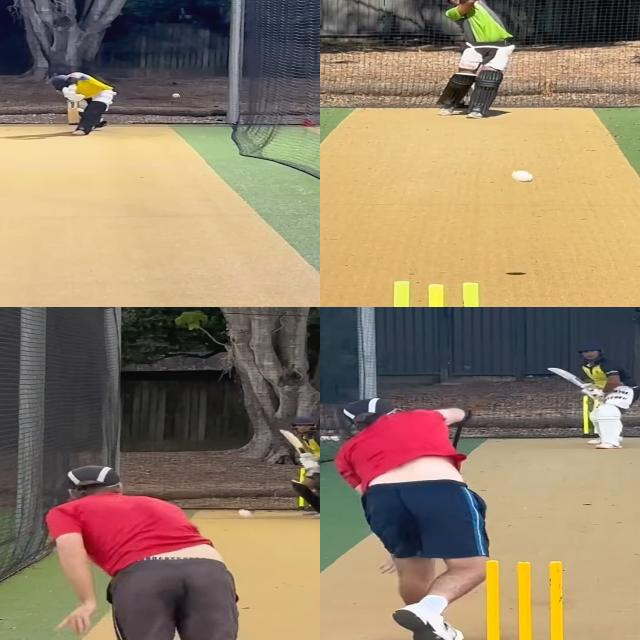Cricket ball: (507, 166, 535, 185), (237, 507, 255, 519), (172, 93, 181, 98)
Stumps: (480, 557, 575, 640), (584, 395, 603, 438)
